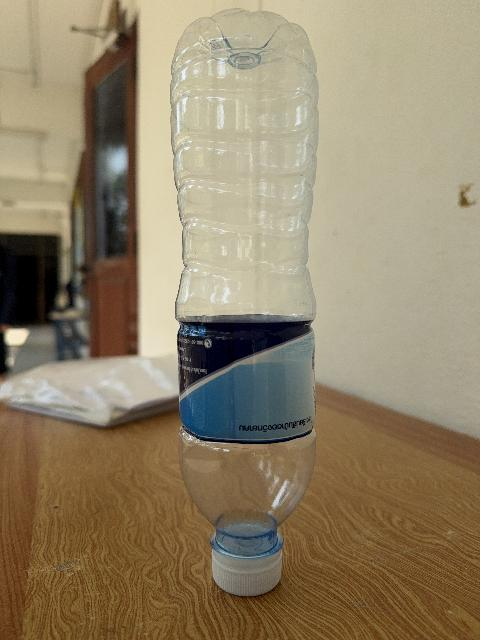bottle: (171, 10, 317, 595)
